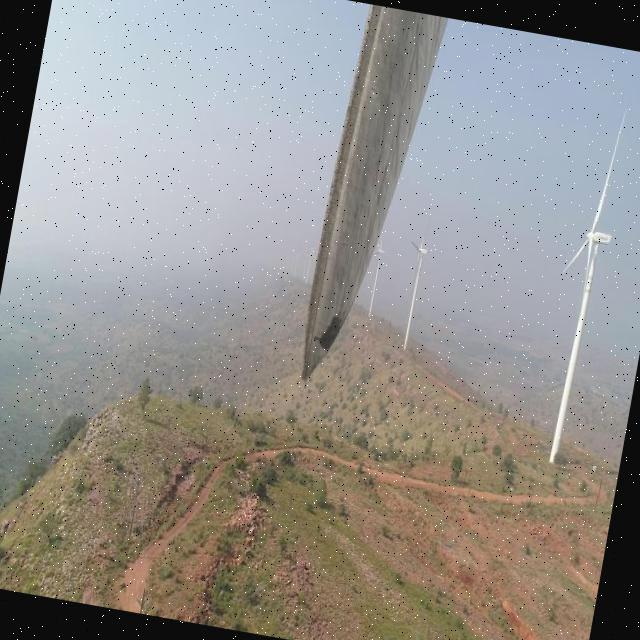Dirt: (301, 3, 447, 380)
Oil LEAKAGE: (319, 312, 344, 351)
